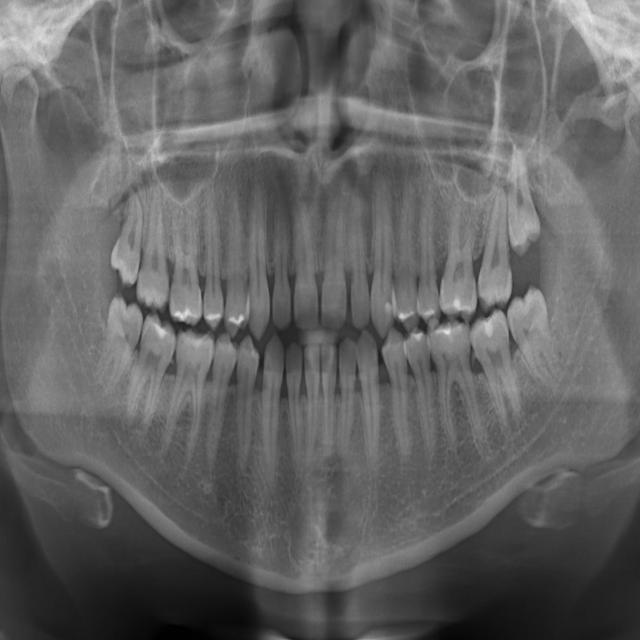CompositeResinRestoration: (435, 319, 463, 356), (410, 325, 428, 361), (481, 315, 499, 351), (174, 301, 196, 327), (226, 306, 244, 331), (398, 297, 414, 325), (389, 328, 406, 353), (385, 290, 399, 320), (420, 302, 440, 322), (150, 318, 168, 339), (206, 306, 222, 326), (452, 294, 462, 318)
ImpactedTooth: (509, 152, 542, 257)
